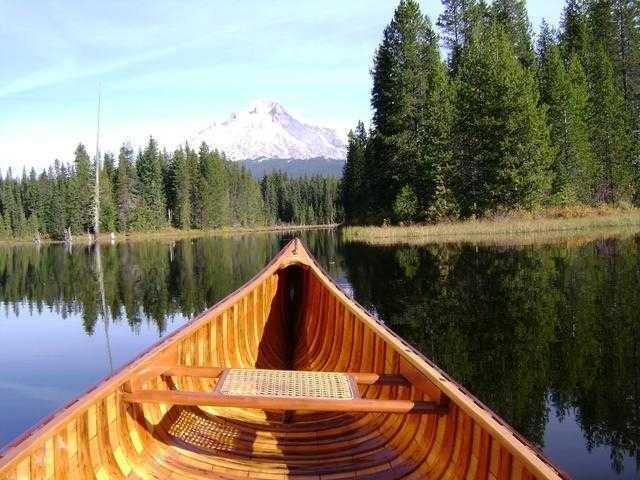kayak: (3, 240, 565, 478)
